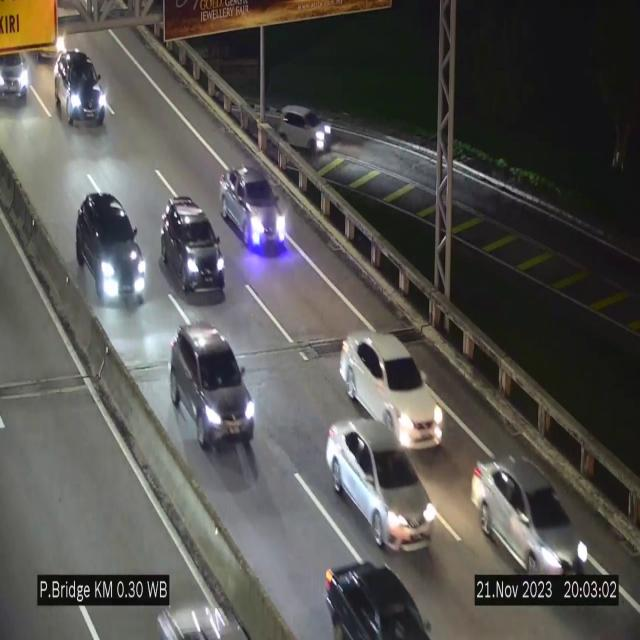Car: (469, 453, 592, 573), (326, 419, 434, 550), (339, 328, 446, 452), (167, 319, 255, 453), (75, 191, 147, 308), (160, 197, 225, 295), (220, 166, 290, 256), (53, 48, 107, 130)
